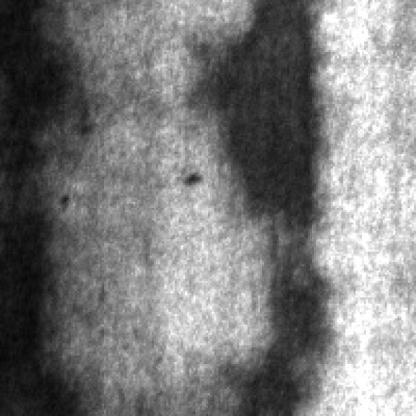patches: (2, 4, 83, 416), (204, 4, 328, 235), (235, 260, 335, 416)
